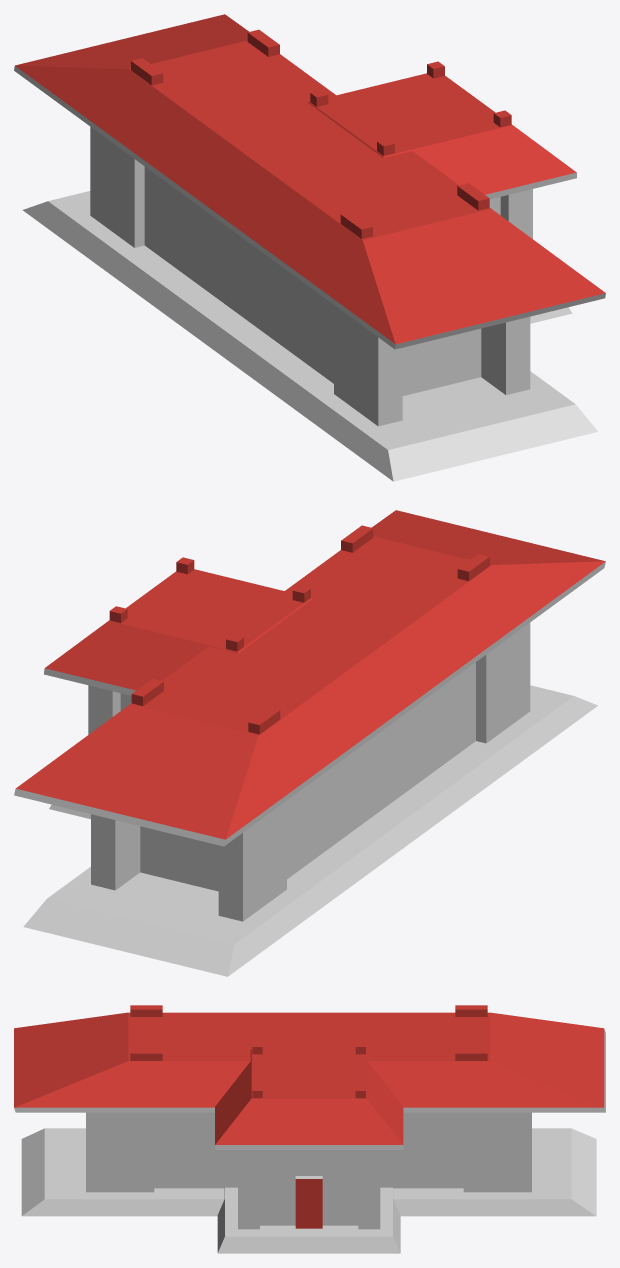
The model's file is Temple.fbx.
3 views of the same model, one above another, from view 1: azimuth 30°, elevation 25°; view 2: azimuth 150°, elevation 25°; view 3: azimuth 270°, elevation 25° (orthographic). The views are drawn at different scales.
Parts seen in each view (by area): view 1: Temple_2, Temple_1; view 2: Temple_2, Temple_1; view 3: Temple_2, Temple_1.
Boxes of the visible parts, x1,y1,x2,y2 form: Temple_2: [14, 14, 605, 481]; Temple_1: [308, 61, 576, 323]; Temple_2: [14, 510, 605, 976]; Temple_1: [44, 557, 312, 819]; Temple_2: [14, 1005, 605, 1216]; Temple_1: [215, 1042, 403, 1253].
Bounding box in the file's own units: 14443 × 8523 × 30698.
